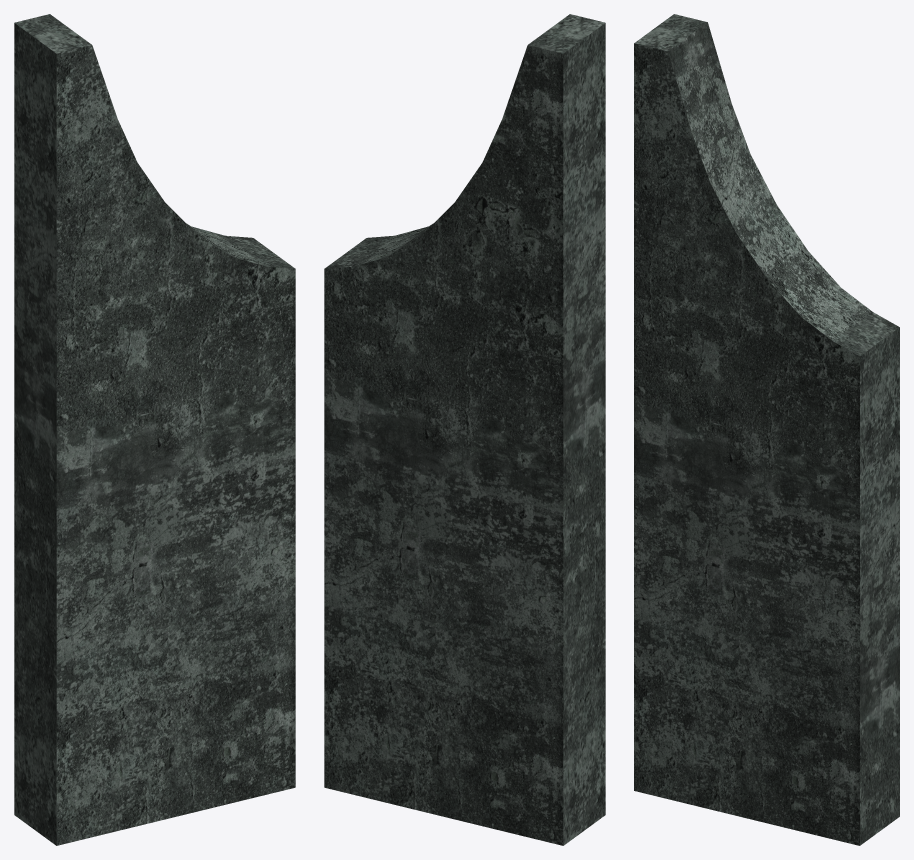
Rendered from mg_9_pillar_1.fbx.
The picture shows the model from 3 angles, left to right: view 1: azimuth 30°, elevation 25°; view 2: azimuth 150°, elevation 25°; view 3: azimuth 330°, elevation 25°; orthographic projection. The views are drawn at different scales.
Parts seen in each view (by area): view 1: mg_9_pillar_1; view 2: mg_9_pillar_1; view 3: mg_9_pillar_1.
Part boxes in pixels (x1,y1,x2,y2): mg_9_pillar_1: (14, 14, 295, 845); mg_9_pillar_1: (324, 14, 605, 845); mg_9_pillar_1: (634, 14, 899, 845).
Size of the model in its own units: 405 by 1283 by 124.
